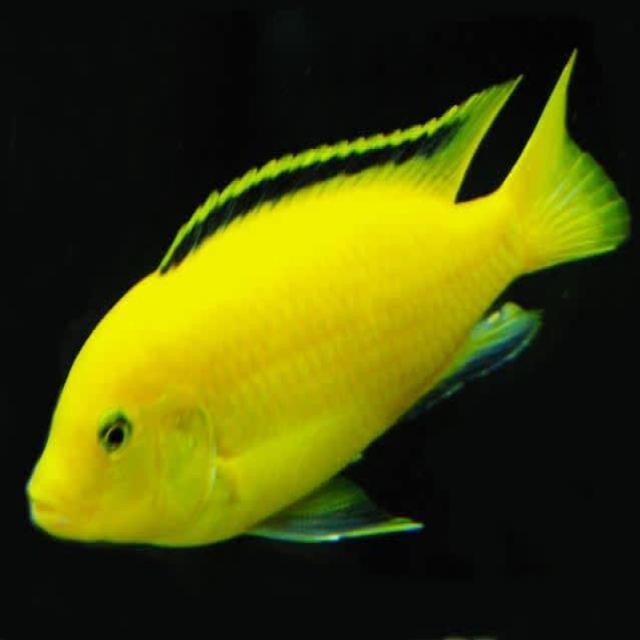YellowCichlid: (20, 40, 633, 562)
